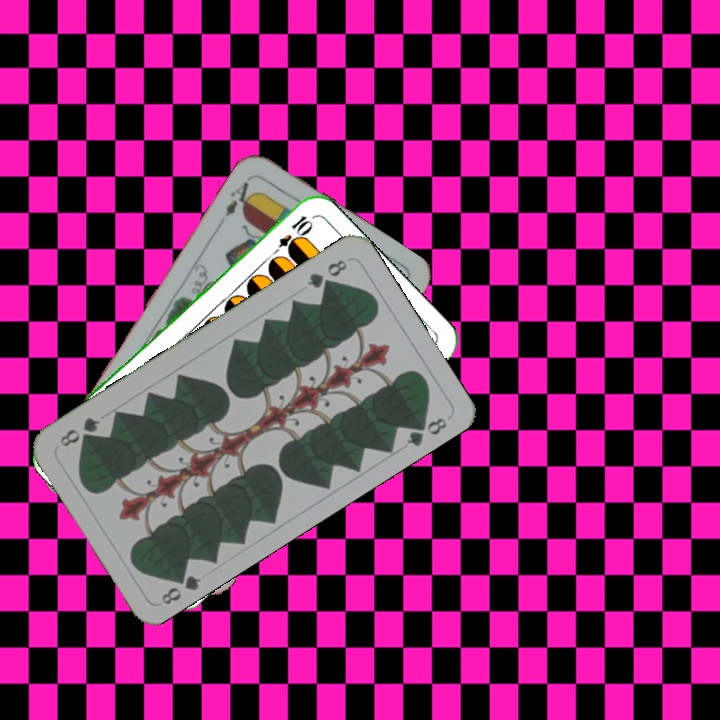E10: (266, 211, 315, 261)
EA: (220, 177, 258, 219)
G8: (157, 566, 204, 608), (302, 255, 350, 291)
